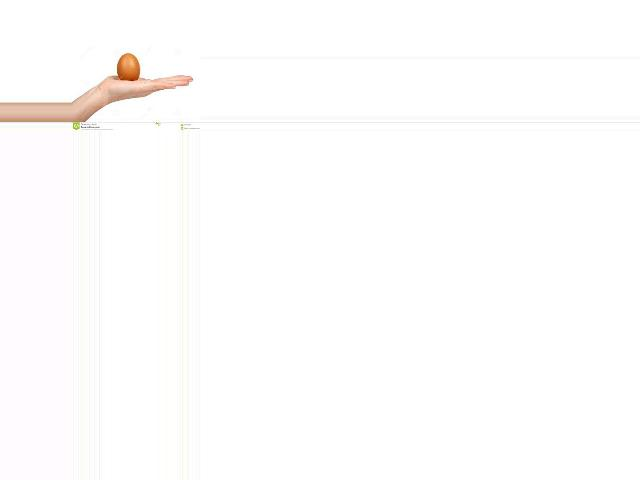egg: (117, 53, 140, 81)
